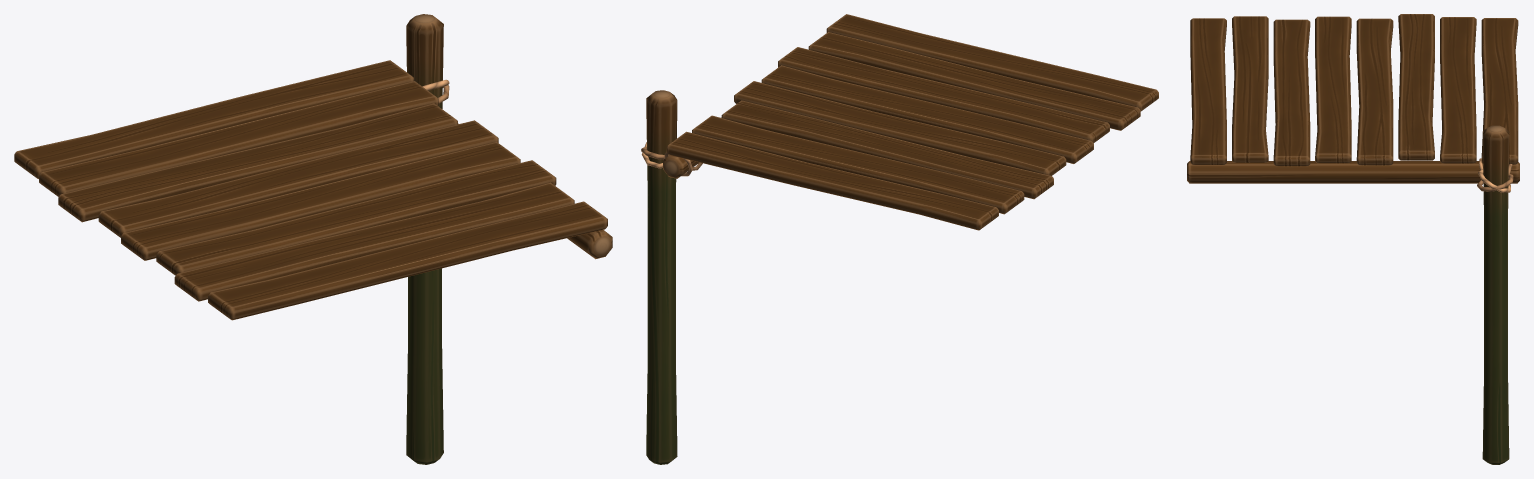
File: Corner_right.1.fbx
The picture shows the model from 3 angles, left to right: view 1: azimuth 30°, elevation 25°; view 2: azimuth 150°, elevation 25°; view 3: azimuth 270°, elevation 25°; orthographic projection. The views are drawn at different scales.
Visible parts, largest first — view 1: Corner_right.1; view 2: Corner_right.1; view 3: Corner_right.1.
Boxes of the visible parts, x1=… form: Corner_right.1: x1=14, y1=14, x2=612, y2=464; Corner_right.1: x1=641, y1=14, x2=1158, y2=464; Corner_right.1: x1=1187, y1=14, x2=1519, y2=464.
Size of the model in its own units: 225 by 220 by 200.
